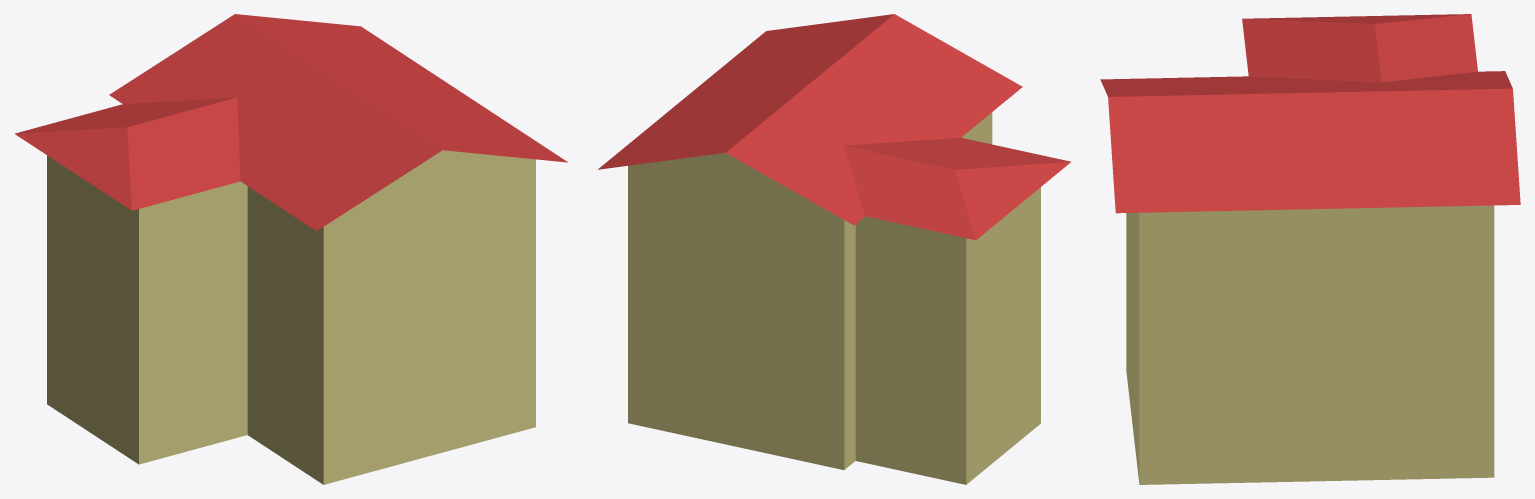
The picture shows the model from 3 angles, left to right: view 1: azimuth 30°, elevation 25°; view 2: azimuth 150°, elevation 25°; view 3: azimuth 270°, elevation 25°; orthographic projection. The views are drawn at different scales.
Parts seen in each view (by area): view 1: group_10, group_6, group_8, group_3, group_9, group_5; view 2: group_10, group_6, group_8, group_3, group_9, group_5; view 3: group_10, group_8, group_3, group_9, group_5.
Part boxes in pixels (box(x1,y1,x2,y2)): group_10: box(249, 150, 535, 484); group_6: box(47, 155, 249, 464); group_8: box(109, 14, 567, 230); group_3: box(15, 97, 240, 210); group_9: box(109, 15, 565, 229); group_5: box(17, 103, 240, 208); group_10: box(628, 112, 992, 469); group_6: box(852, 187, 1040, 484); group_8: box(597, 14, 1022, 224); group_3: box(843, 137, 1071, 240); group_9: box(599, 15, 1018, 225); group_5: box(860, 138, 1069, 237); group_10: box(1126, 205, 1494, 484); group_8: box(1100, 71, 1520, 213); group_3: box(1242, 14, 1477, 82); group_9: box(1102, 71, 1518, 212); group_5: box(1243, 14, 1477, 77).
Size of the model in its own units: 14.16 by 12.63 by 11.01.
